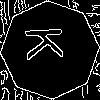K: (25, 25, 73, 61)
